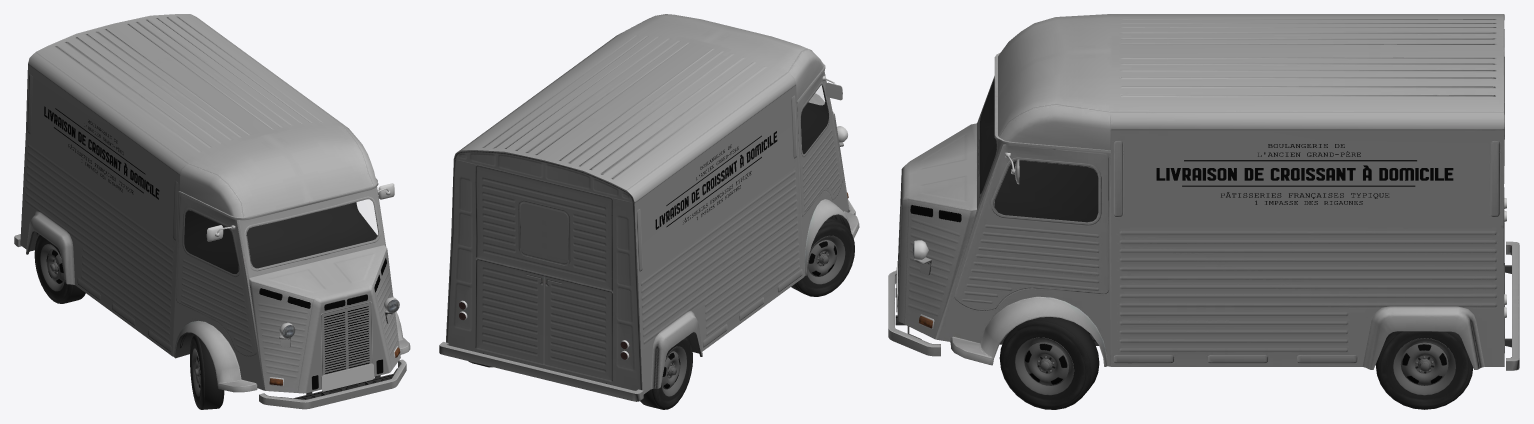
The model's file is french-delivery-van-low-poly-model-a350a4.glb.
3 renders of one model, left to right at view 1: azimuth 30°, elevation 25°; view 2: azimuth 150°, elevation 25°; view 3: azimuth 270°, elevation 25°, orthographic. The views are drawn at different scales.
Parts seen in each view (by area): view 1: body, wheel-back-right, wheel-front-right; view 2: body, wheel-front-right, wheel-back-right; view 3: body, wheel-front-left, wheel-back-left.
Boxes of the visible parts, x1=… form: body: x1=14, y1=14, x2=410, y2=409; wheel-back-right: x1=34, y1=235, x2=85, y2=303; wheel-front-right: x1=190, y1=335, x2=224, y2=409; body: x1=439, y1=14, x2=859, y2=401; wheel-front-right: x1=791, y1=217, x2=854, y2=296; wheel-back-right: x1=640, y1=336, x2=692, y2=409; body: x1=888, y1=14, x2=1519, y2=370; wheel-front-left: x1=999, y1=317, x2=1099, y2=409; wheel-back-left: x1=1375, y1=331, x2=1473, y2=409.
Size of the model in its own units: 2.02 by 2.21 by 4.19.
9 materials, 6 textured.
